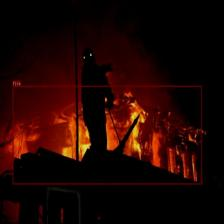fire: (12, 86, 202, 184)
